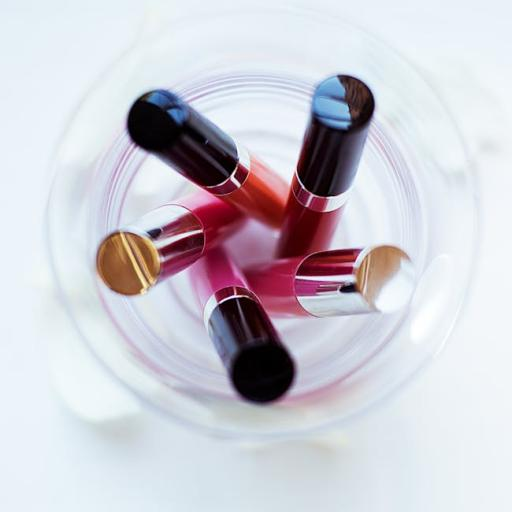lipstick: (128, 90, 288, 227), (278, 76, 374, 257), (190, 247, 294, 402), (97, 190, 244, 295), (245, 245, 414, 316)
